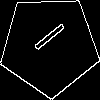I: (24, 20, 67, 59)
